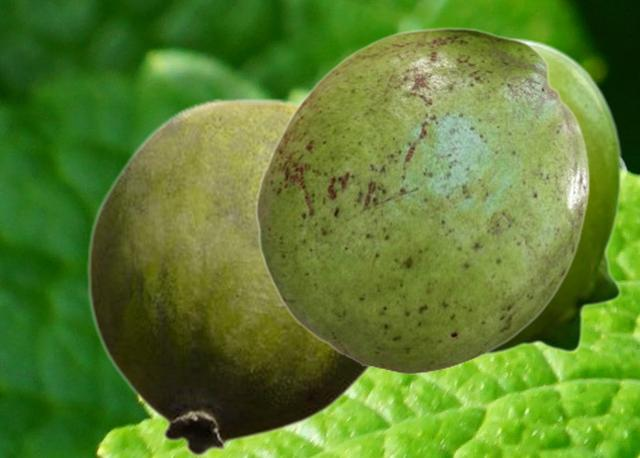guava: (254, 27, 589, 373), (86, 97, 373, 456), (487, 37, 622, 355)
